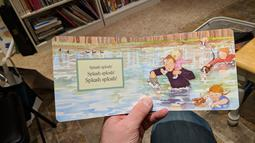text block: (80, 59, 120, 84)
